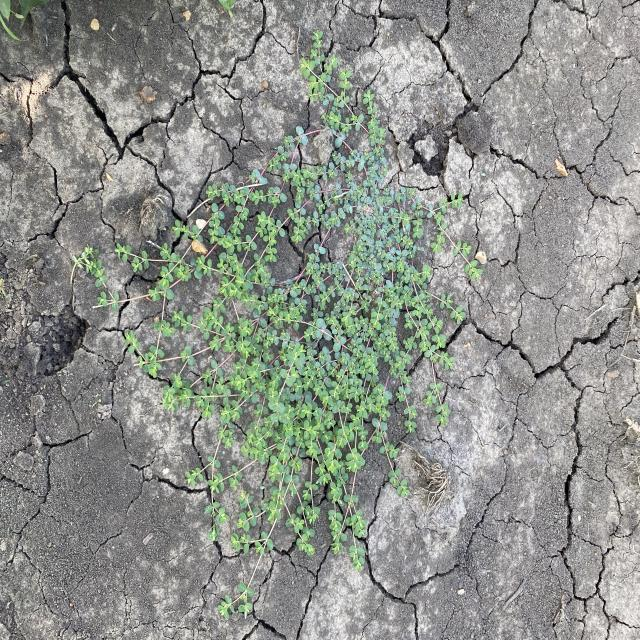SpottedSpurge: (69, 27, 484, 622)
